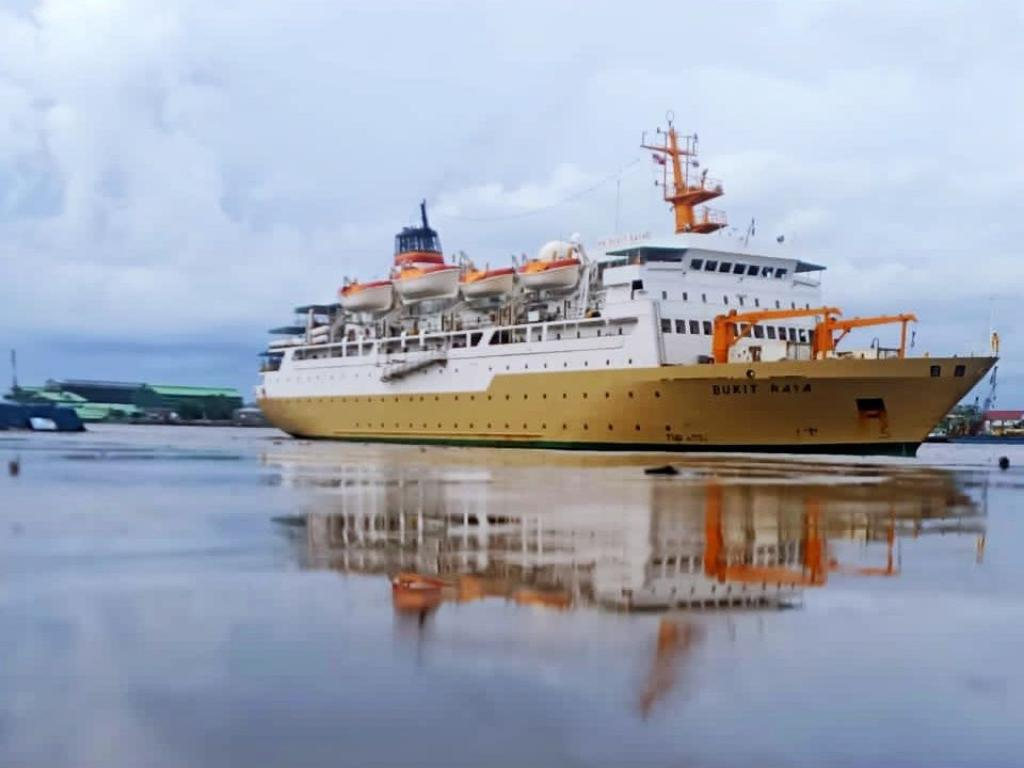PassengerShip: (249, 115, 999, 457)
